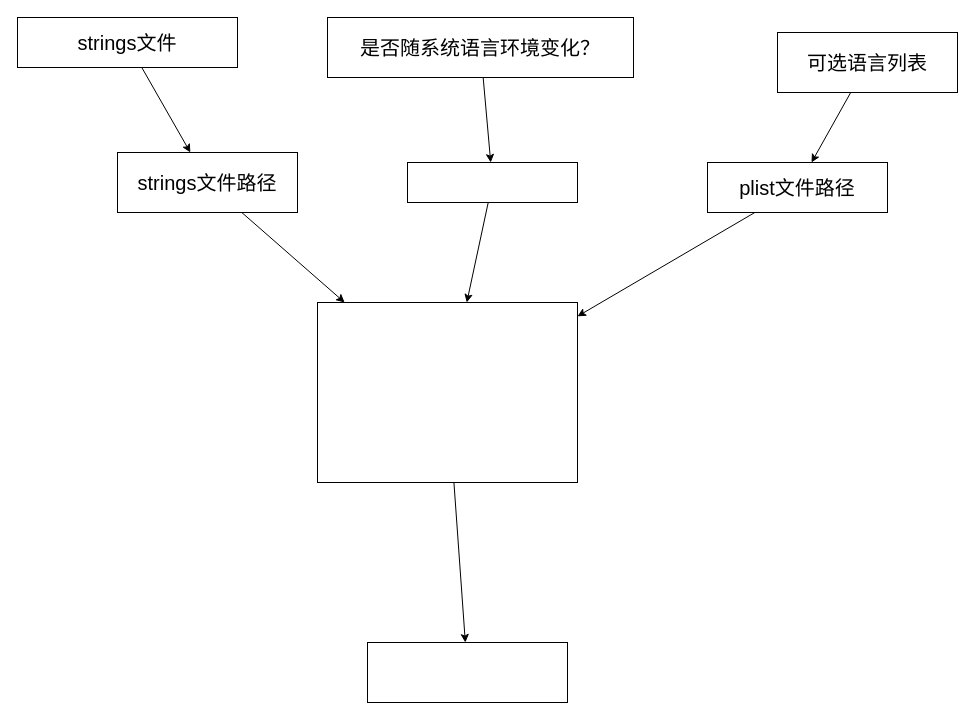
Image size: 975x720. Some labels were removed from this diagram. The box of each missing label's shape, as (x1, y1, x2, y2) in pixels:
bool类型: (406, 162, 578, 202)
本地化字符串: (366, 642, 568, 702)
